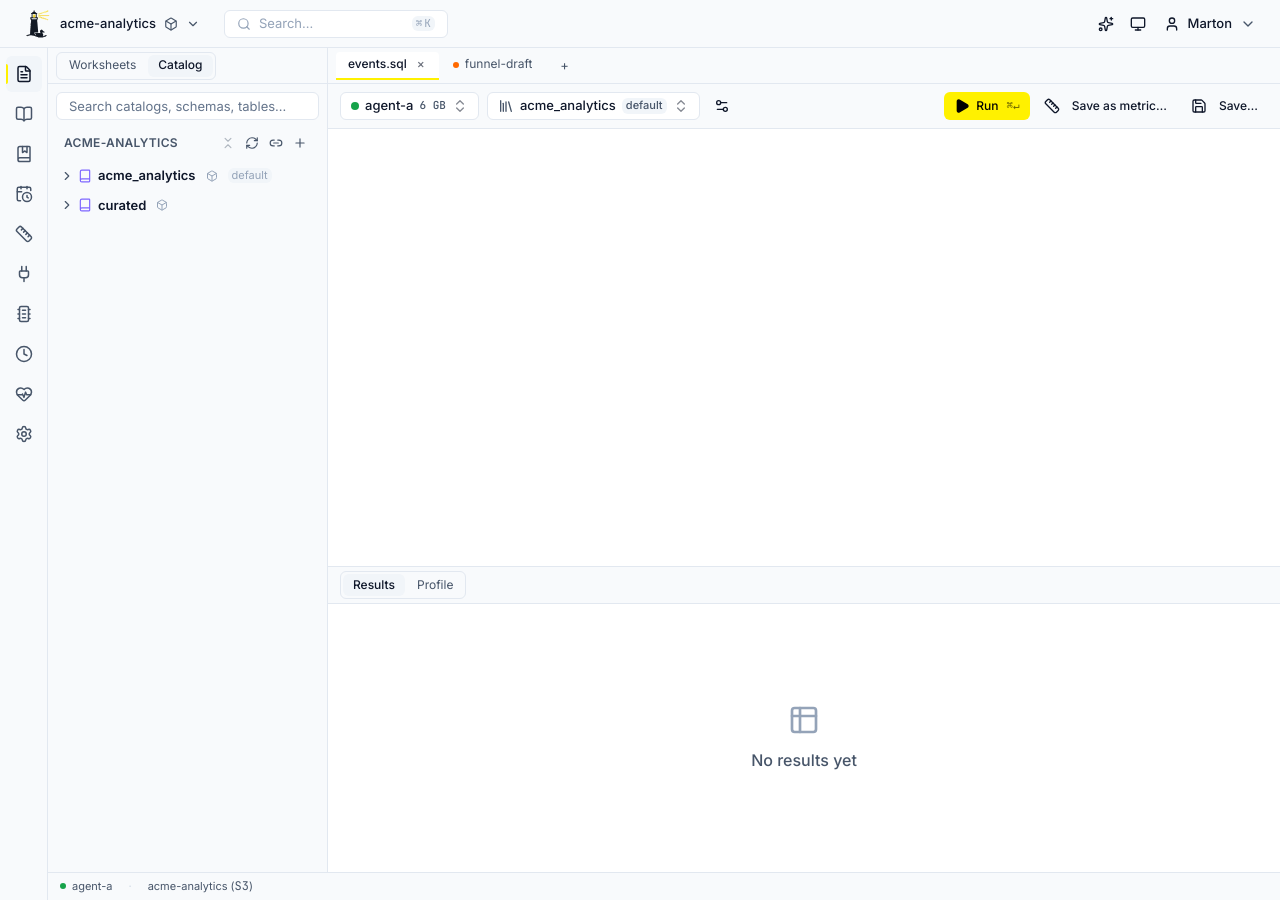
Scenario: AssistantPanel › searches and switches conversations from the history list
This screenshot has width=1280, height=900.
Click the button named "Toggle AI assistant" at [1106, 24], box [1092,10,1120,38]
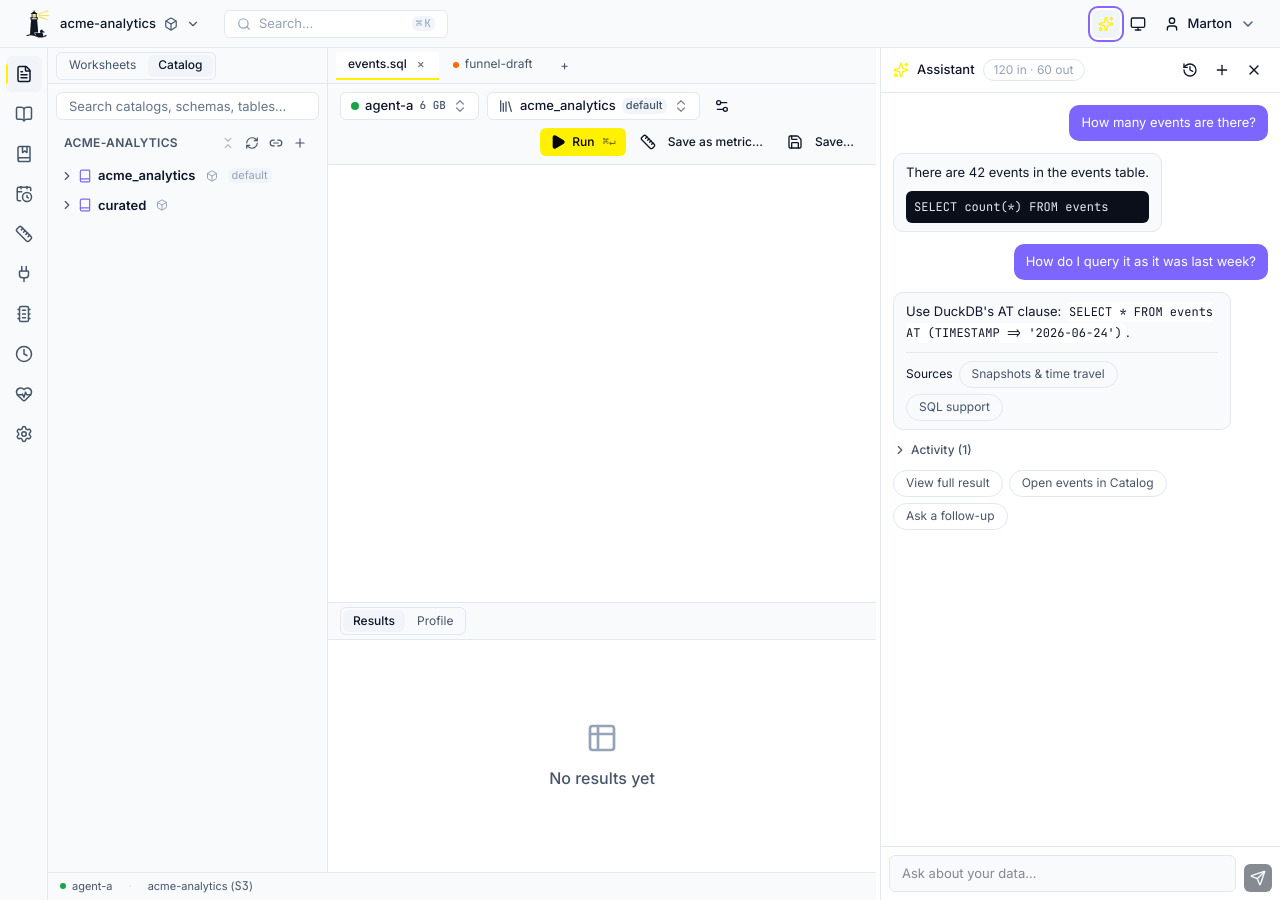
Expected: the text "There are 42 events in the events table." is shown, [906,162,1149,183]
Click the button named "Conversation history" at [1190, 70], box [1176,56,1204,84]
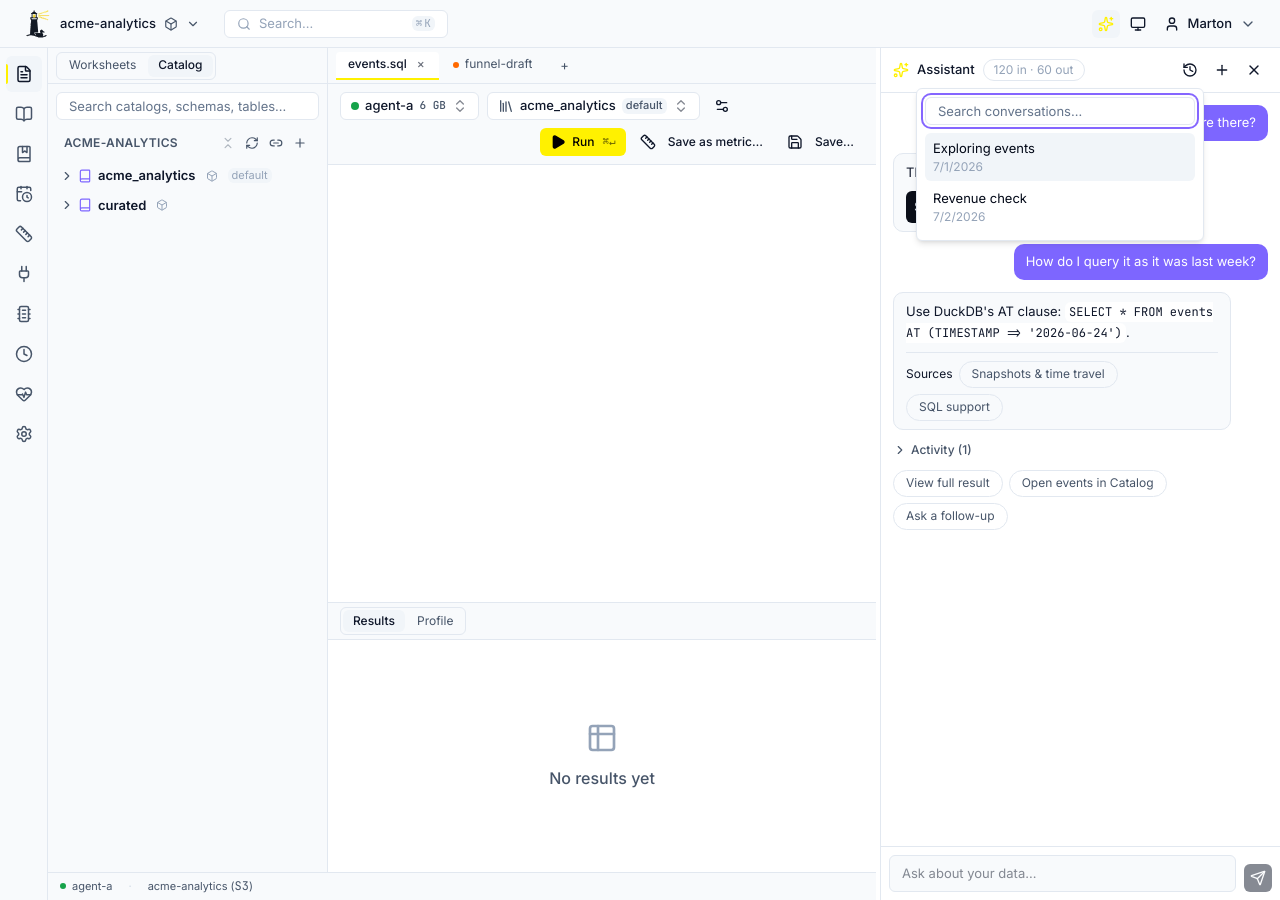
Expected: the text "Exploring events" is shown, [933,140,1035,156]
Expected: the text "Revenue check" is shown, [933,190,1027,206]
Type "revenue" into the field labelled "Search conversations" at [1060, 111], box [925,97,1195,125]
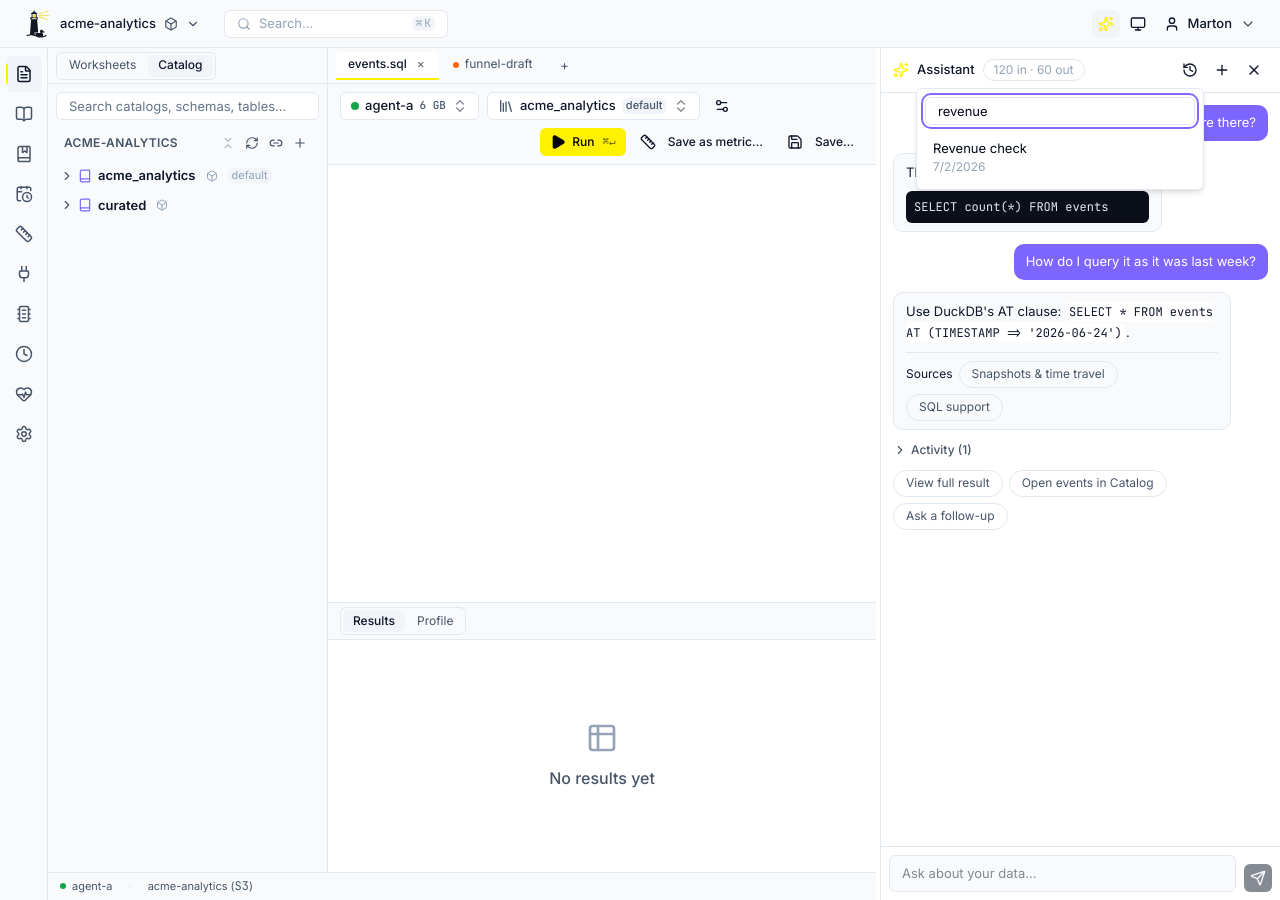
Expected: the button "Exploring events" is gone
Click the text "Revenue check" at [980, 148], box [933,140,1027,156]
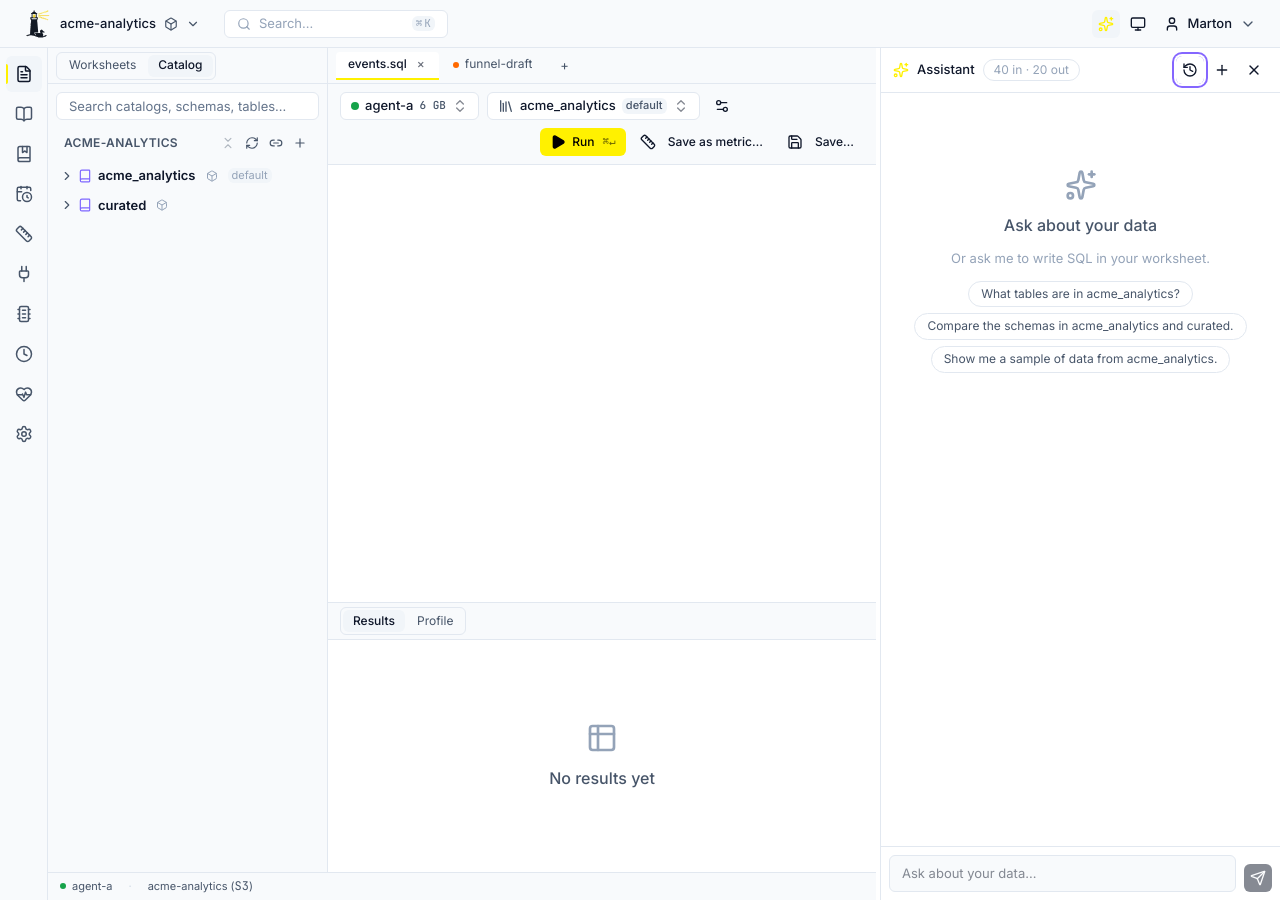
Expected: the button "Revenue check" is gone
Expected: the text "There are 42 events in the events table." is gone
